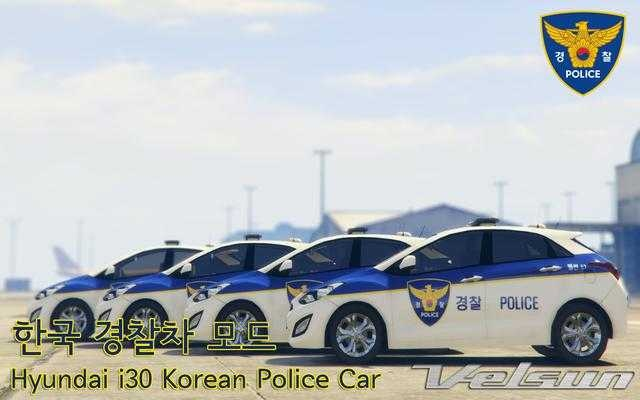Police Car: (310, 222, 639, 363), (198, 222, 412, 353), (113, 242, 295, 348)
